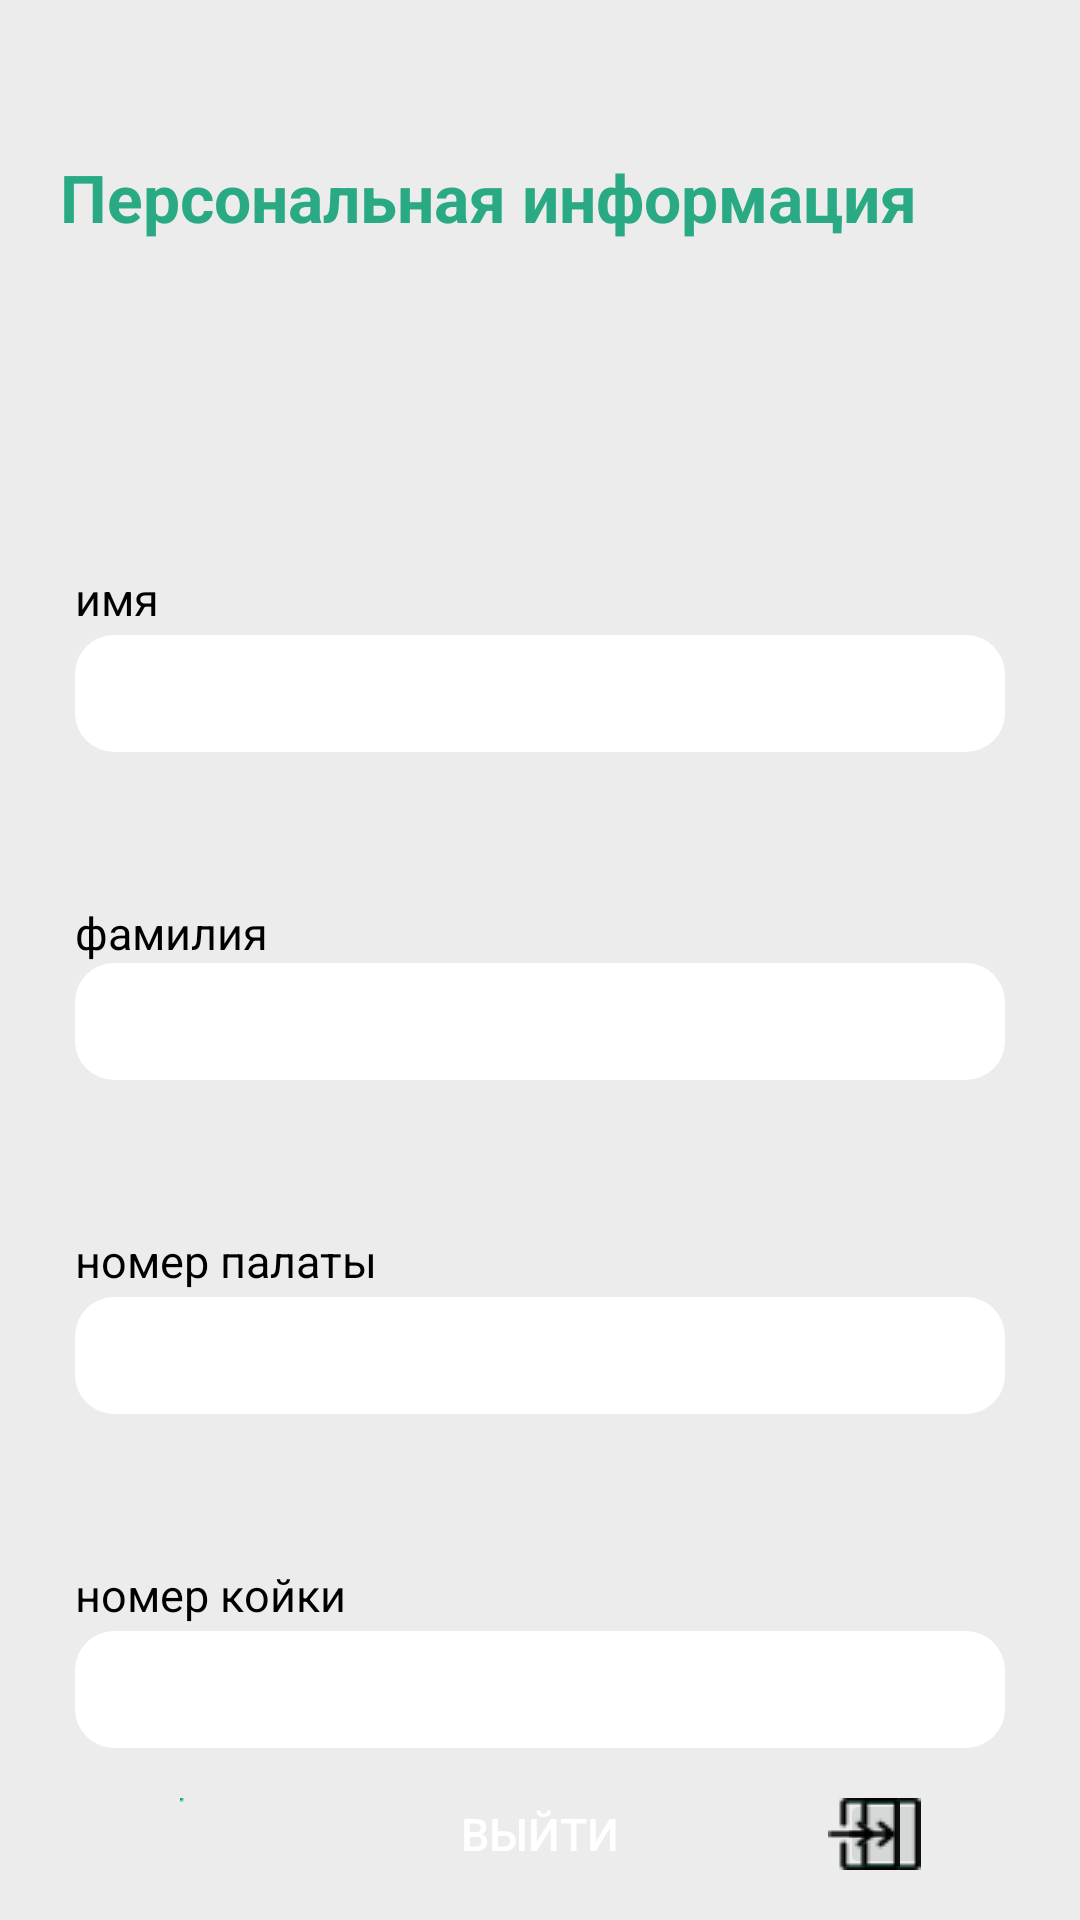

Named icons in this screenshot (1080 × 1920) and their bounding boxes, (x1, y1, x2, y2):
exit: (840, 1798, 921, 1870)
